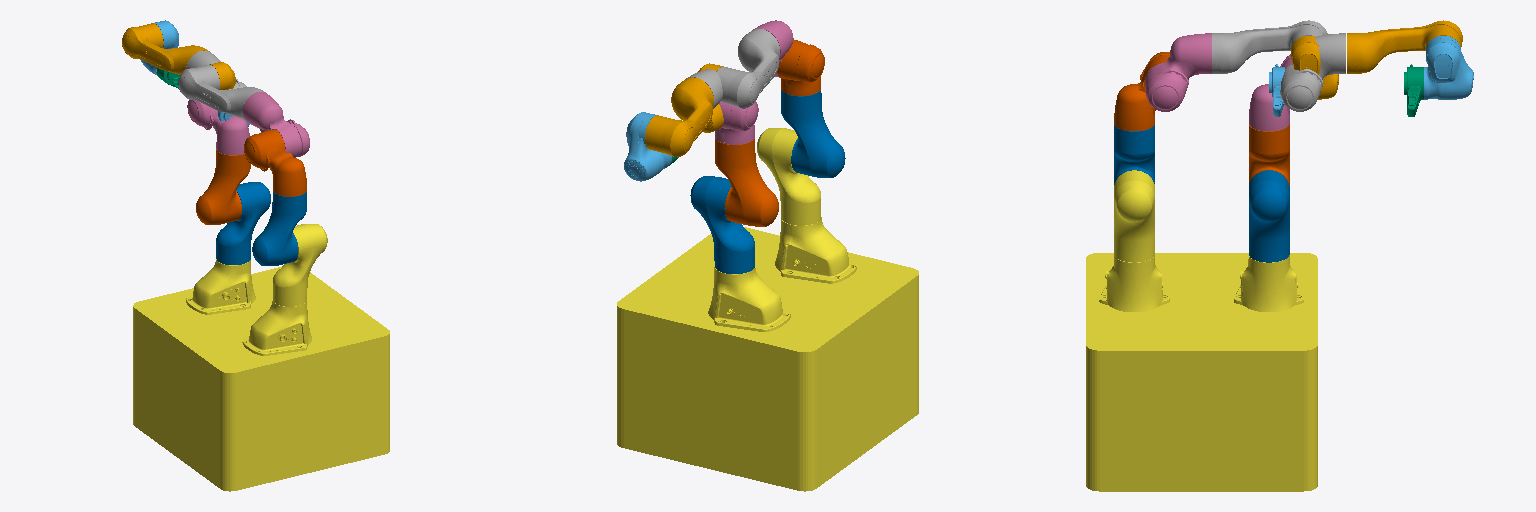
URDF robot description (mmp_panda):
<?xml version='1.0' encoding='utf-8'?>

<robot name="mmp_panda" version="1.0">

  <!-- GROUND LINK -->
  <link name ="ground_link">
    <inertial>
      <origin xyz="0.0 0.0 0.0" rpy="0 0 0" />
      <mass value="0.001" />
      <inertia ixx="1E-06" ixy="0.0" ixz="0.0" iyy="1E-06" iyz="0.0" izz="1E-06" />
    </inertial>
  </link>


  <!-- MOBILE BASE LINKS -->
  <link name ="base_x">
    <inertial>
      <origin xyz="0.0 0.0 0.0" rpy="0 0 0" />
      <mass value="0.001" />
      <inertia ixx="1E-06" ixy="0.0" ixz="0.0" iyy="1E-06" iyz="0.0" izz="1E-06" />
    </inertial>
  </link>

  <link name = "base_y">
    <inertial>
      <origin xyz="0.0 0.0 0.0" rpy="0 0 0" />
      <mass value = "0.001" />
      <inertia ixx="1E-06" ixy="0.0" ixz="0.0" iyy="1E-06" iyz="0.0" izz="1E-06" />
    </inertial>
  </link>

  <!-- MOBILE BASE + LINK 0 OF PANDA ARM -->
  <link name = "base_link">
    <inertial>
      <origin xyz="0.0 0.0 0.1757" rpy="0 0 0" />
      <mass value = "64.6" />
      <inertia ixx="1.721" ixy="0.0" ixz="0.0" iyy="1.712" iyz="0.0" izz="2.030" />
    </inertial>
    <visual>
      <geometry>
        <mesh filename="meshes/mmp_panda_two_arm_base.obj" />
      </geometry>
    </visual>
  </link>

  <!-- PANDA LEFT ARM LINKS --> 
<!--<link name="link0">
    <inertial>
      <origin xyz="0 0 0.05" rpy="0 0 0" />
      <mass value="4" />
      <inertia ixx="0.4" iyy="0.4" izz="0.4" ixy="0" ixz="0" iyz="0" />
    </inertial>
    <visual>
      <geometry>
        <mesh filename="../panda/meshes/visual/link0.obj"/>
      </geometry>
    </visual>
<!      <collision>
        <geometry>
          <mesh filename="../panda/meshes/collision/link0.obj"/>
        </geometry>
      </collision> 
  </link> -->
  <link name="link1_left">
    <inertial>
      <origin xyz="0 0 -0.07" rpy="0 -0 0" />
      <mass value="4" />
      <inertia ixx="0.3" iyy="0.3" izz="0.3" ixy="0" ixz="0" iyz="0" />
    </inertial>
    <visual>
      <geometry>
        <mesh filename="../panda/meshes/visual/link1.obj"/>
      </geometry>
    </visual>
    <!-- <collision>
      <geometry>
        <mesh filename="../panda/meshes/collision/link1.obj"/>
      </geometry>
    </collision> -->
  </link>
  <link name="link2_left">
    <inertial>
      <origin xyz="0 -0.1 0" rpy="0 -0 0" />
      <mass value="3" />
      <inertia ixx="0.3" iyy="0.3" izz="0.3" ixy="0" ixz="0" iyz="0" />
    </inertial>
    <visual>
      <geometry>
        <mesh filename="../panda/meshes/visual/link2.obj"/>
      </geometry>
    </visual>
    <!-- <collision>
      <geometry>
        <mesh filename="../panda/meshes/collision/link2.obj"/>
      </geometry>
    </collision> -->
  </link>
  <link name="link3_left">
    <inertial>
      <origin xyz="0.04 0 -0.05" rpy="0 -0 0" />
      <mass value="3" />
      <inertia ixx="0.2" iyy="0.2" izz="0.2" ixy="0" ixz="0" iyz="0" />
    </inertial>
    <visual>
      <geometry>
        <mesh filename="../panda/meshes/visual/link3.obj"/>
      </geometry>
    </visual>
    <!-- <collision>
      <geometry>
        <mesh filename="../panda/meshes/collision/link3.obj"/>
      </geometry>
    </collision> -->
  </link>
  <link name="link4_left">
    <inertial>
      <origin xyz="-0.04 0.05 0" rpy="0 -0 0" />
      <mass value="3" />
      <inertia ixx="0.2" iyy="0.2" izz="0.2" ixy="0" ixz="0" iyz="0" />
    </inertial>
    <visual>
      <geometry>
        <mesh filename="../panda/meshes/visual/link4.obj"/>
      </geometry>
    </visual>
<!--       <collision>
      <geometry>
        <mesh filename="../panda/meshes/collision/link4.obj"/>
      </geometry>
    </collision> -->
  </link>
  <link name="link5_left">
    <inertial>
      <origin xyz="0 0 -0.15" rpy="0 -0 0" />
      <mass value="3" />
      <inertia ixx="0.2" iyy="0.2" izz="0.2" ixy="0" ixz="0" iyz="0" />
    </inertial>
    <visual>
      <geometry>
        <mesh filename="../panda/meshes/visual/link5.obj"/>
      </geometry>
    </visual>
<!--       <collision>
      <geometry>
        <mesh filename="../panda/meshes/collision/link5.obj"/>
      </geometry>
    </collision> -->
  </link>
  <link name="link6_left">
    <inertial>
      <origin xyz="0.06 0 0" rpy="0 -0 0" />
      <mass value="2" />
      <inertia ixx="0.1" iyy="0.1" izz="0.1" ixy="0" ixz="0" iyz="0" />
    </inertial>
    <visual>
      <geometry>
        <mesh filename="../panda/meshes/visual/link6.obj"/>
      </geometry>
    </visual>
    <!-- <collision>
      <geometry>
        <mesh filename="../panda/meshes/collision/link6.obj"/>
      </geometry>
    </collision> -->
  </link>
  <link name="link7_left">
    <inertial>
      <origin xyz="0 0 0.17" rpy="0 -0 0" />
      <mass value="3.0" />
      <inertia ixx="0.09" iyy="0.05" izz="0.07" ixy="0" ixz="0" iyz="0" />
    </inertial>
    <visual>
      <geometry>
        <mesh filename="../panda/meshes/visual/link7.obj"/>
      </geometry>
    </visual>
    <!-- <collision>
      <geometry>
        <mesh filename="../panda/meshes/collision/link7.obj"/>
      </geometry>
    </collision> -->
  </link>

  <!--PANDA RIGHT ARM LINK-->

    <link name="link1_right">
    <inertial>
      <origin xyz="0 0 -0.07" rpy="0 -0 0" />
      <mass value="4" />
      <inertia ixx="0.3" iyy="0.3" izz="0.3" ixy="0" ixz="0" iyz="0" />
    </inertial>
    <visual>
      <geometry>
        <mesh filename="../panda/meshes/visual/link1.obj"/>
      </geometry>
    </visual>
    <!-- <collision>
      <geometry>
        <mesh filename="../panda/meshes/collision/link1.obj"/>
      </geometry>
    </collision> -->
  </link>
  <link name="link2_right">
    <inertial>
      <origin xyz="0 -0.1 0" rpy="0 -0 0" />
      <mass value="3" />
      <inertia ixx="0.3" iyy="0.3" izz="0.3" ixy="0" ixz="0" iyz="0" />
    </inertial>
    <visual>
      <geometry>
        <mesh filename="../panda/meshes/visual/link2.obj"/>
      </geometry>
    </visual>
    <!-- <collision>
      <geometry>
        <mesh filename="../panda/meshes/collision/link2.obj"/>
      </geometry>
    </collision> -->
  </link>
  <link name="link3_right">
    <inertial>
      <origin xyz="0.04 0 -0.05" rpy="0 -0 0" />
      <mass value="3" />
      <inertia ixx="0.2" iyy="0.2" izz="0.2" ixy="0" ixz="0" iyz="0" />
    </inertial>
    <visual>
      <geometry>
        <mesh filename="../panda/meshes/visual/link3.obj"/>
      </geometry>
    </visual>
    <!-- <collision>
      <geometry>
        <mesh filename="../panda/meshes/collision/link3.obj"/>
      </geometry>
    </collision> -->
  </link>
  <link name="link4_right">
    <inertial>
      <origin xyz="-0.04 0.05 0" rpy="0 -0 0" />
      <mass value="3" />
      <inertia ixx="0.2" iyy="0.2" izz="0.2" ixy="0" ixz="0" iyz="0" />
    </inertial>
    <visual>
      <geometry>
        <mesh filename="../panda/meshes/visual/link4.obj"/>
      </geometry>
    </visual>
<!--       <collision>
      <geometry>
        <mesh filename="../panda/meshes/collision/link4.obj"/>
      </geometry>
    </collision> -->
  </link>
  <link name="link5_right">
    <inertial>
      <origin xyz="0 0 -0.15" rpy="0 -0 0" />
      <mass value="3" />
      <inertia ixx="0.2" iyy="0.2" izz="0.2" ixy="0" ixz="0" iyz="0" />
    </inertial>
    <visual>
      <geometry>
        <mesh filename="../panda/meshes/visual/link5.obj"/>
      </geometry>
    </visual>
<!--       <collision>
      <geometry>
        <mesh filename="../panda/meshes/collision/link5.obj"/>
      </geometry>
    </collision> -->
  </link>
  <link name="link6_right">
    <inertial>
      <origin xyz="0.06 0 0" rpy="0 -0 0" />
      <mass value="2" />
      <inertia ixx="0.1" iyy="0.1" izz="0.1" ixy="0" ixz="0" iyz="0" />
    </inertial>
    <visual>
      <geometry>
        <mesh filename="../panda/meshes/visual/link6.obj"/>
      </geometry>
    </visual>
    <!-- <collision>
      <geometry>
        <mesh filename="../panda/meshes/collision/link6.obj"/>
      </geometry>
    </collision> -->
  </link>
  <link name="link7_right">
    <inertial>
      <origin xyz="0 0 0.17" rpy="0 -0 0" />
      <mass value="3.0" />
      <inertia ixx="0.09" iyy="0.05" izz="0.07" ixy="0" ixz="0" iyz="0" />
    </inertial>
    <visual>
      <geometry>
        <mesh filename="../panda/meshes/visual/link7.obj"/>
      </geometry>
    </visual>
    <!-- <collision>
      <geometry>
        <mesh filename="../panda/meshes/collision/link7.obj"/>
      </geometry>
    </collision> -->
  </link>


  <!-- JOINTS -->
  <joint name = "base_prismatic_x" type = "prismatic">
    <origin xyz = "0 0 0" rpy = "0 0 0"/> 
    <parent link = "ground_link" />
    <child link= "base_x"/>
    <axis xyz = "1 0 0" />
    <limit effort="87" lower="-2.8973" upper="2.9873" velocity="2.1750" />
  </joint>

  <joint name = "base_prismatic_y" type = "prismatic">
    <origin xyz = "0 0 0" rpy = "0 0 0"/> 
    <parent link = "base_x" />
    <child link= "base_y"/>
    <axis xyz = "0 1 0" />
    <limit effort="87" lower="-2.8973" upper="2.9873" velocity="2.1750" />
  </joint>

  <joint name = "base_revolute" type = "revolute">
    <origin xyz = "0 0 0.0" rpy = "0 0 0"/> 
    <parent link = "base_y" />
    <child link= "base_link"/>
    <axis xyz = "0 0 1" />
    <limit effort="87" lower="-2.8973" upper="2.8973" velocity="2.1750" />
  </joint>
<!--
  <joint name = "base_prismatic_link0" type = "prismatic">
    <origin xyz = "0 0 0.33" rpy = "0 0 0"/> 
    <parent link = "base_link" />
    <child link= "link0"/>
    <axis xyz = "0 0 1" />
    <limit effort="87" lower="-2.8973" upper="2.8973" velocity="2.1750" />
  </joint>
-->

<!--Left Arm Joints-->
  <joint name="joint1_left" type="revolute">
      <safety_controller k_position="100.0" k_velocity="40.0" soft_lower_limit="-2.8973" soft_upper_limit="2.8973"/>
      <origin rpy="0 0 1.5708" xyz="0 0.18 0.749"/>
      <parent link="base_link"/>
      <child link="link1_left"/>
      <axis xyz="0 0 1"/>
      <calibration falling="-80.0" />
      <limit effort="87" lower="-2.8973" upper="2.8973" velocity="2.1750"/>
  </joint>
  <joint name="joint2_left" type="revolute">
      <safety_controller k_position="100.0" k_velocity="40.0" soft_lower_limit="-1.7628" soft_upper_limit="1.7628"/>
      <origin rpy="-1.57079632679 0 0" xyz="0 0 0"/>
      <parent link="link1_left"/>
      <child link="link2_left"/>
      <axis xyz="0 0 1"/>
      <calibration falling="-45.0" />
      <limit effort="87" lower="-1.7628" upper="1.7628" velocity="2.1750"/>
  </joint>

  <joint name="joint3_left" type="revolute">
      <safety_controller k_position="100.0" k_velocity="40.0" soft_lower_limit="-2.8973" soft_upper_limit="2.8973"/>
      <origin rpy="1.57079632679 0 0" xyz="0 -0.316 0"/>
      <parent link="link2_left"/>
      <child link="link3_left"/>
      <axis xyz="0 0 1"/>
      <limit effort="87" lower="-2.8973" upper="2.8973" velocity="2.1750"/>
  </joint>

  <joint name="joint4_left" type="revolute">
      <safety_controller k_position="100.0" k_velocity="40.0" soft_lower_limit="-3.0718" soft_upper_limit="-0.0698"/>
      <origin rpy="1.57079632679 0 0" xyz="0.0825 0 0"/>
      <parent link="link3_left"/>
      <child link="link4_left"/>
      <axis xyz="0 0 1"/>
      <calibration falling="-125.0" />
      <limit effort="87" lower="-3.0718" upper="-0.0698" velocity="2.1750"/>
  </joint>

  <joint name="joint5_left" type="revolute">
      <safety_controller k_position="100.0" k_velocity="40.0" soft_lower_limit="-2.8973" soft_upper_limit="2.8973"/>
      <origin rpy="-1.57079632679 0 0" xyz="-0.0825 0.384 0"/>
      <parent link="link4_left"/>
      <child link="link5_left"/>
      <axis xyz="0 0 1"/>
      <limit effort="12" lower="-2.8973" upper="2.8973" velocity="2.6100"/>
  </joint>

  <joint name="joint6_left" type="revolute">
      <safety_controller k_position="100.0" k_velocity="40.0" soft_lower_limit="-0.0175" soft_upper_limit="3.7525"/>
      <origin rpy="1.57079632679 0 0" xyz="0 0 0"/>
      <parent link="link5_left"/>
      <child link="link6_left"/>
      <axis xyz="0 0 1"/>
      <calibration falling="80.0" />
      <limit effort="12" lower="-0.0175" upper="3.7525" velocity="2.6100"/>
  </joint>

  <joint name="joint7_left" type="revolute">
      <safety_controller k_position="100.0" k_velocity="40.0" soft_lower_limit="-2.8973" soft_upper_limit="2.8973"/>
      <origin rpy="1.57079632679 0 0" xyz="0.088 0 0"/>
      <parent link="link6_left"/>
      <child link="link7_left"/>
      <axis xyz="0 0 1"/>
      <limit effort="12" lower="-2.8973" upper="2.8973" velocity="2.6100"/>
  </joint>


  <!--Right Arm Joints-->
  <joint name="joint1_right" type="revolute">
      <safety_controller k_position="100.0" k_velocity="40.0" soft_lower_limit="-2.8973" soft_upper_limit="2.8973"/>
      <origin rpy="0 0 1.5708" xyz="0 -0.18 0.749"/>
      <parent link="base_link"/>
      <child link="link1_right"/>
      <axis xyz="0 0 1"/>
      <calibration falling="-80.0" />
      <limit effort="87" lower="-2.8973" upper="2.8973" velocity="2.1750"/>
  </joint>
  <joint name="joint2_right" type="revolute">
      <safety_controller k_position="100.0" k_velocity="40.0" soft_lower_limit="-1.7628" soft_upper_limit="1.7628"/>
      <origin rpy="-1.57079632679 0 0" xyz="0 0 0"/>
      <parent link="link1_right"/>
      <child link="link2_right"/>
      <axis xyz="0 0 1"/>
      <calibration falling="-45.0" />
      <limit effort="87" lower="-1.7628" upper="1.7628" velocity="2.1750"/>
  </joint>

  <joint name="joint3_right" type="revolute">
      <safety_controller k_position="100.0" k_velocity="40.0" soft_lower_limit="-2.8973" soft_upper_limit="2.8973"/>
      <origin rpy="1.57079632679 0 0" xyz="0 -0.316 0"/>
      <parent link="link2_right"/>
      <child link="link3_right"/>
      <axis xyz="0 0 1"/>
      <limit effort="87" lower="-2.8973" upper="2.8973" velocity="2.1750"/>
  </joint>

  <joint name="joint4_right" type="revolute">
      <safety_controller k_position="100.0" k_velocity="40.0" soft_lower_limit="-3.0718" soft_upper_limit="-0.0698"/>
      <origin rpy="1.57079632679 0 0" xyz="0.0825 0 0"/>
      <parent link="link3_right"/>
      <child link="link4_right"/>
      <axis xyz="0 0 1"/>
      <calibration falling="-125.0" />
      <limit effort="87" lower="-3.0718" upper="-0.0698" velocity="2.1750"/>
  </joint>

  <joint name="joint5_right" type="revolute">
      <safety_controller k_position="100.0" k_velocity="40.0" soft_lower_limit="-2.8973" soft_upper_limit="2.8973"/>
      <origin rpy="-1.57079632679 0 0" xyz="-0.0825 0.384 0"/>
      <parent link="link4_right"/>
      <child link="link5_right"/>
      <axis xyz="0 0 1"/>
      <limit effort="12" lower="-2.8973" upper="2.8973" velocity="2.6100"/>
  </joint>

  <joint name="joint6_right" type="revolute">
      <safety_controller k_position="100.0" k_velocity="40.0" soft_lower_limit="-0.0175" soft_upper_limit="3.7525"/>
      <origin rpy="1.57079632679 0 0" xyz="0 0 0"/>
      <parent link="link5_right"/>
      <child link="link6_right"/>
      <axis xyz="0 0 1"/>
      <calibration falling="80.0" />
      <limit effort="12" lower="-0.0175" upper="3.7525" velocity="2.6100"/>
  </joint>

  <joint name="joint7_right" type="revolute">
      <safety_controller k_position="100.0" k_velocity="40.0" soft_lower_limit="-2.8973" soft_upper_limit="2.8973"/>
      <origin rpy="1.57079632679 0 0" xyz="0.088 0 0"/>
      <parent link="link6_right"/>
      <child link="link7_right"/>
      <axis xyz="0 0 1"/>
      <limit effort="12" lower="-2.8973" upper="2.8973" velocity="2.6100"/>
  </joint>

</robot> 

--- Facts derived from the render (not from the file) ---
Views: 3 orthographic renders of the robot side by side, from view 1: azimuth 30°, elevation 25°; view 2: azimuth 150°, elevation 25°; view 3: azimuth 270°, elevation 25°.
Robot: mmp_panda — 18 links, 17 joints (15 revolute, 2 prismatic); root link ground_link; default pose: joints at zero except 2 at the middle of their limits (joint4_left = -1.57, joint4_right = -1.57).
Links seen in each view (by area): view 1: base_link, link2_right, link2_left, link3_right, link1_left, link1_right, link5_right, link5_left, link4_right, link3_left, link6_left; view 2: base_link, link2_right, link2_left, link1_left, link1_right, link5_left, link5_right, link3_right, link6_left, link3_left, link4_right; view 3: base_link, link1_right, link1_left, link4_right, link5_left, link5_right, link6_left, link4_left, link3_right, link2_left, link2_right, link3_left (+3 smaller).
Boxes of the visible links, x1=… form: base_link: x1=133, y1=259, x2=389, y2=491; link2_right: x1=252, y1=192, x2=306, y2=265; link2_left: x1=196, y1=149, x2=250, y2=224; link3_right: x1=244, y1=129, x2=306, y2=196; link1_left: x1=216, y1=182, x2=270, y2=264; link1_right: x1=273, y1=224, x2=327, y2=306; link5_right: x1=178, y1=64, x2=265, y2=120; link5_left: x1=122, y1=23, x2=209, y2=74; link4_right: x1=243, y1=92, x2=309, y2=157; link3_left: x1=187, y1=100, x2=249, y2=154; link6_left: x1=140, y1=20, x2=178, y2=75; base_link: x1=617, y1=217, x2=918, y2=491; link2_right: x1=781, y1=90, x2=845, y2=177; link2_left: x1=715, y1=138, x2=778, y2=226; link1_left: x1=690, y1=176, x2=754, y2=273; link1_right: x1=757, y1=128, x2=820, y2=225; link5_left: x1=645, y1=77, x2=713, y2=157; link5_right: x1=717, y1=29, x2=779, y2=108; link3_right: x1=777, y1=39, x2=824, y2=95; link6_left: x1=624, y1=112, x2=671, y2=181; link3_left: x1=715, y1=102, x2=758, y2=144; link4_right: x1=753, y1=20, x2=793, y2=77; base_link: x1=1086, y1=253, x2=1317, y2=491; link1_right: x1=1114, y1=170, x2=1154, y2=262; link1_left: x1=1249, y1=170, x2=1289, y2=262; link4_right: x1=1145, y1=33, x2=1211, y2=111; link5_left: x1=1347, y1=20, x2=1462, y2=73; link5_right: x1=1212, y1=20, x2=1327, y2=73; link6_left: x1=1424, y1=36, x2=1473, y2=99; link4_left: x1=1280, y1=33, x2=1345, y2=111; link3_right: x1=1114, y1=52, x2=1169, y2=131; link2_left: x1=1249, y1=124, x2=1289, y2=185; link2_right: x1=1114, y1=125, x2=1154, y2=184; link3_left: x1=1249, y1=54, x2=1292, y2=131.
Bounding box of the posed robot: 0.62 × 1.04 × 1.2 m (x, y, z).
15 mesh visuals loaded from 8 distinct referenced files (8 OBJ).
